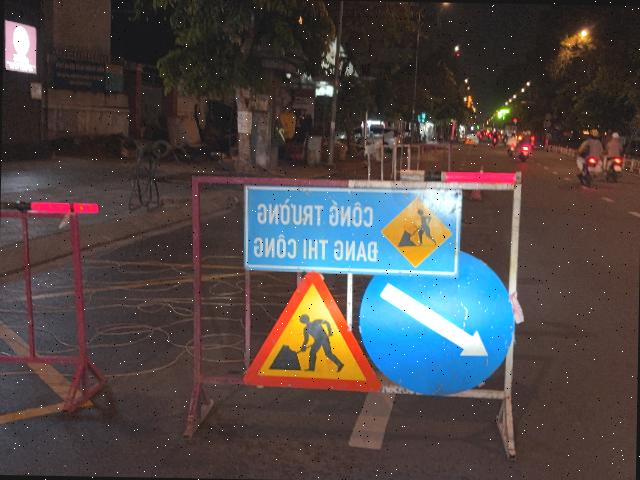cong-truong-dang-thi-cong: (242, 267, 382, 392)
huong-phai-di-vong-chuong-ngai-vat: (358, 245, 516, 398)
